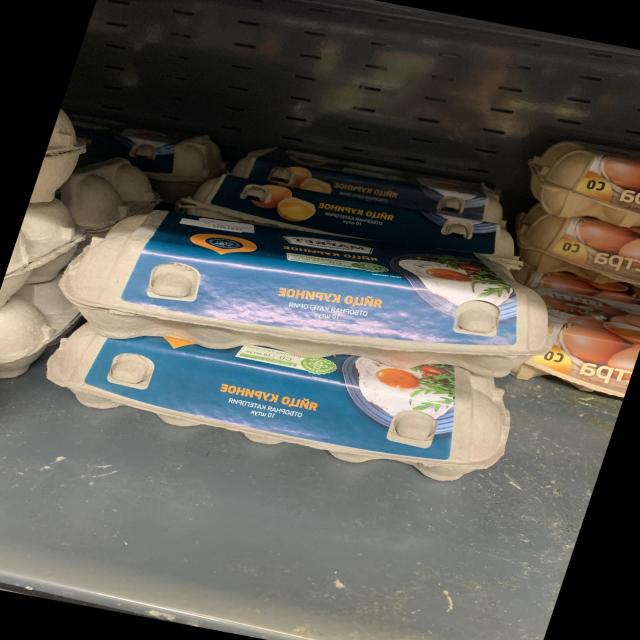organic waste: (54, 184, 567, 409), (33, 298, 518, 483), (194, 169, 518, 263), (223, 139, 512, 226), (494, 205, 640, 300), (511, 130, 640, 236)
